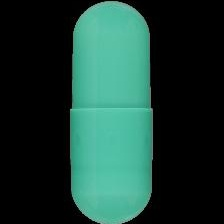0093-7542: (0, 0, 224, 224)
